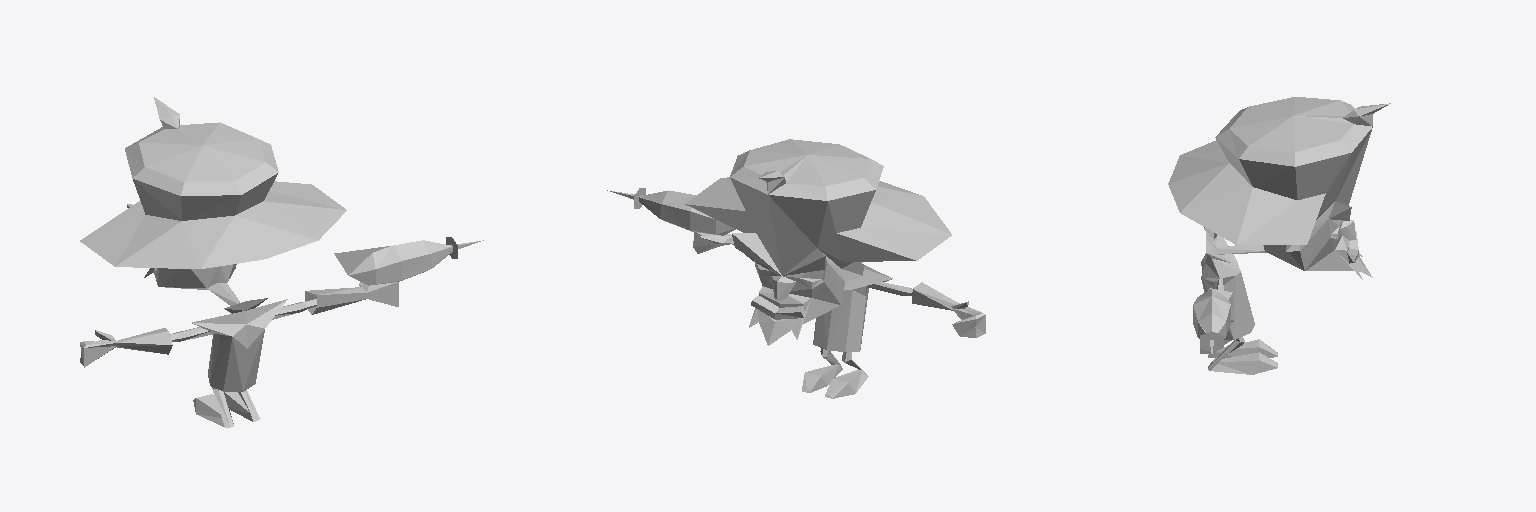
File: cortex.obj
The picture shows the model from 3 angles: view 1: azimuth 30°, elevation 25°; view 2: azimuth 150°, elevation 25°; view 3: azimuth 270°, elevation 25°; orthographic projection.
Parts seen in each view (by area): view 1: cortex_1; view 2: cortex_1; view 3: cortex_1.
Boxes of the visible parts, box(x1,y1,x2,y2) form: cortex_1: box(80, 97, 483, 427); cortex_1: box(607, 139, 985, 398); cortex_1: box(1168, 97, 1390, 374).
Size of the model in its own units: 1.91 by 1.22 by 0.95.